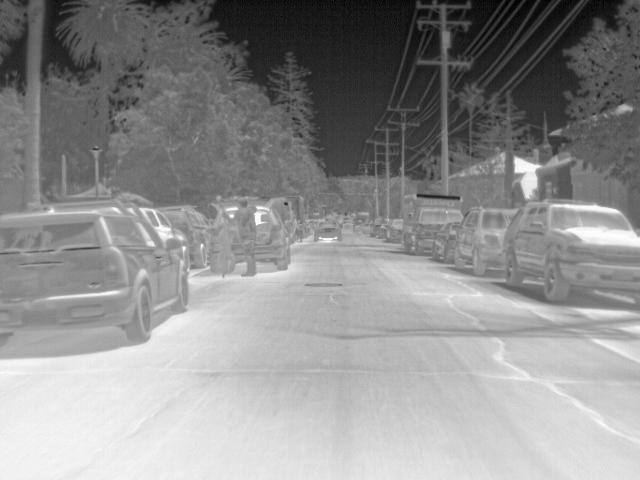car: (1, 208, 190, 351), (504, 198, 637, 307), (451, 205, 519, 275), (139, 204, 193, 278), (157, 202, 213, 273), (253, 201, 290, 270), (432, 220, 462, 264), (312, 218, 343, 244), (386, 217, 404, 243), (354, 220, 374, 238)
person: (223, 196, 258, 276)
